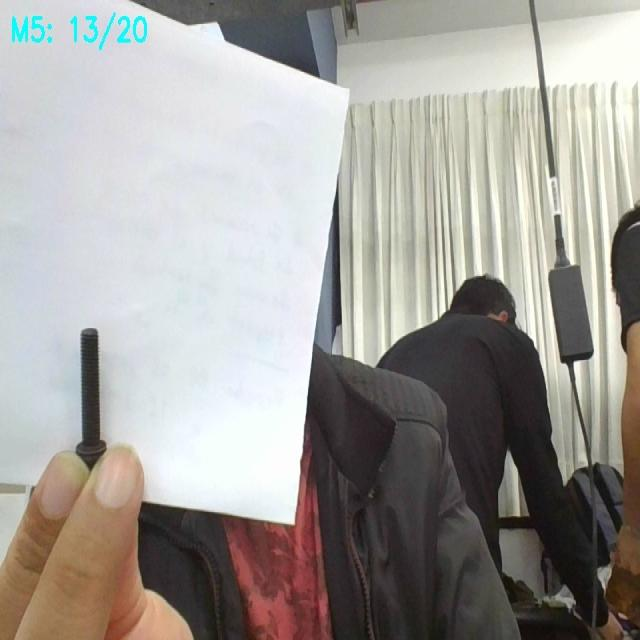vastago: (80, 328, 100, 441)
